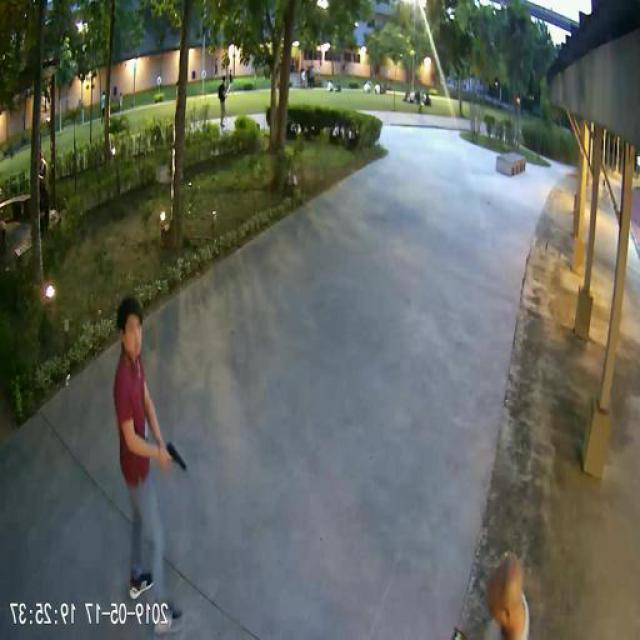Gun: (164, 440, 188, 470)
